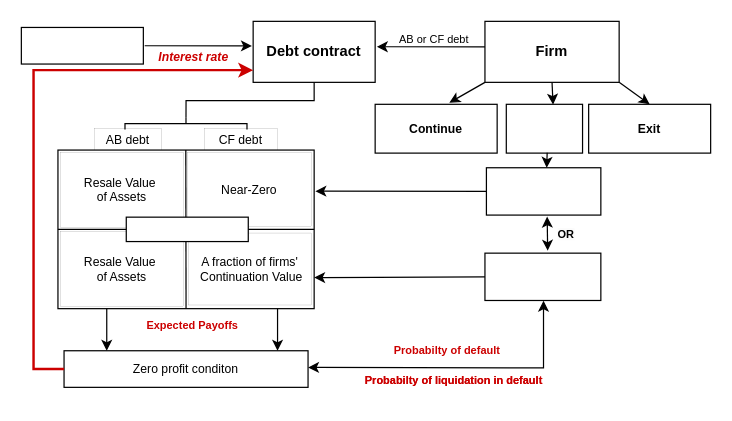
This 732x421 diagram has some shape labels left out. Each missing label, with the centre of its shape:
"Default" belongs at (x=544, y=128).
"Lender" belongs at (x=81, y=45).
"Lender's payoffs" belongs at (x=186, y=229).
"Liquidation" belongs at (x=543, y=191).
"Reorganization" belongs at (x=542, y=276).
